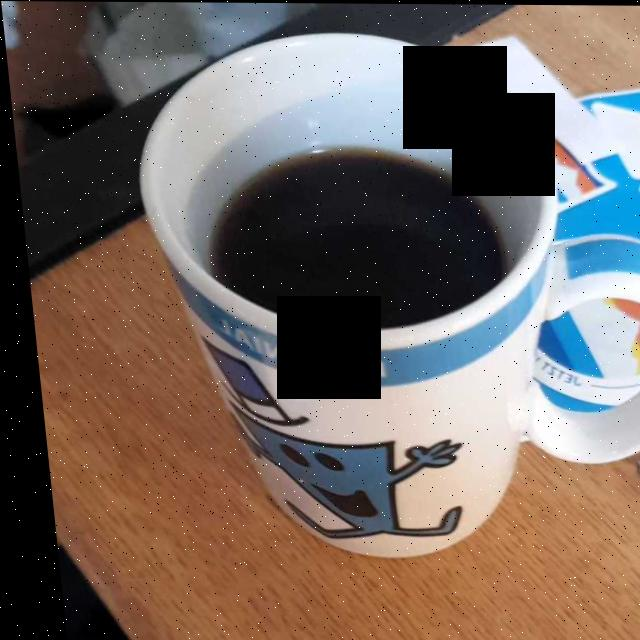coffee-with-caffeine: (213, 143, 501, 321)
